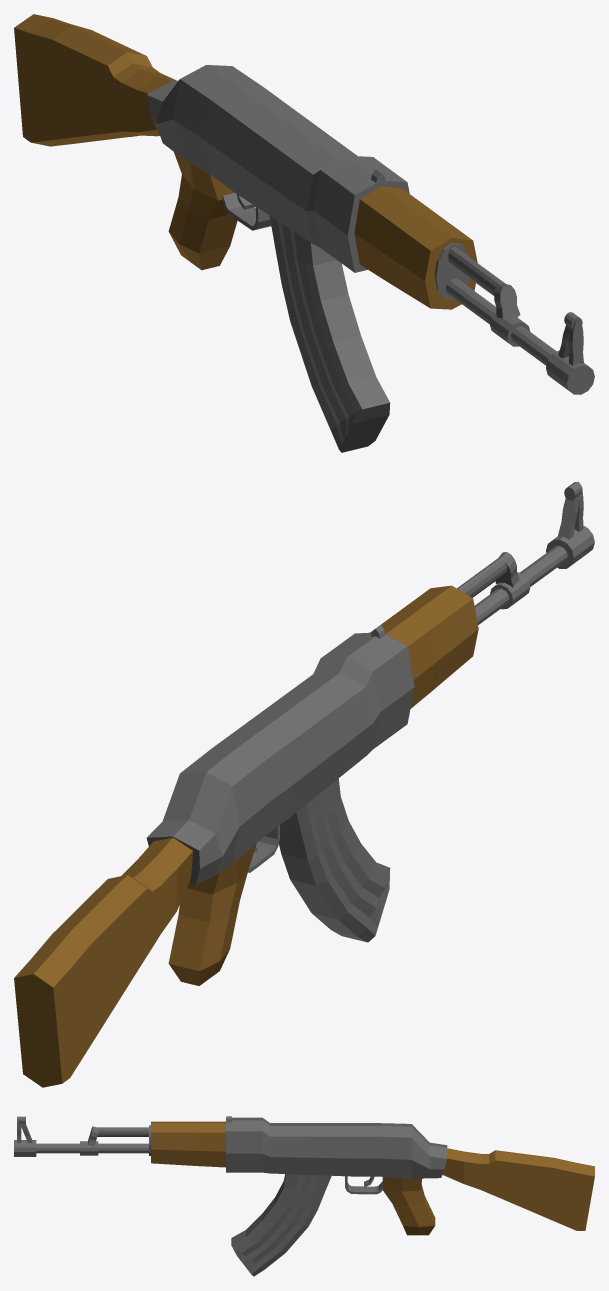
The picture shows the model from 3 angles, top to bottom: view 1: azimuth 30°, elevation 25°; view 2: azimuth 150°, elevation 25°; view 3: azimuth 270°, elevation 25°; orthographic projection. The views are drawn at different scales.
Parts seen in each view (by area): view 1: ak; view 2: ak; view 3: ak.
Boxes of the visible parts, box(x1,y1,x2,y2) form: ak: box(14, 14, 594, 452); ak: box(14, 481, 594, 1087); ak: box(14, 1116, 594, 1276).
Size of the model in its own units: 69.59 by 294 by 986.
